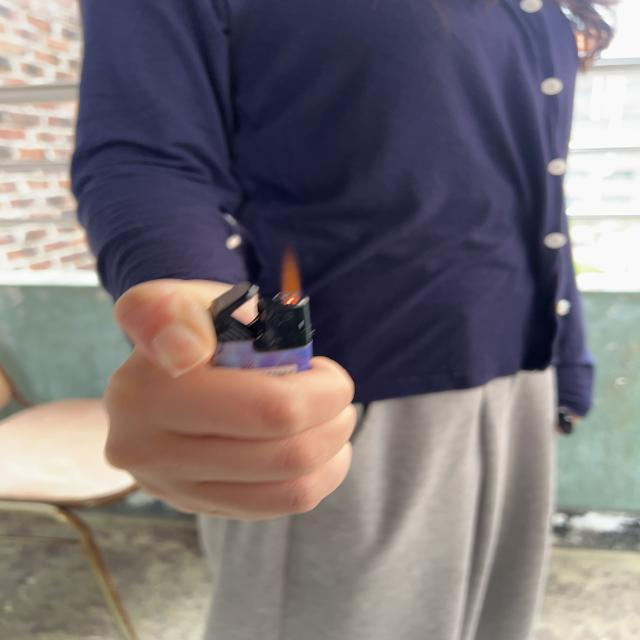fire: (276, 248, 305, 306)
